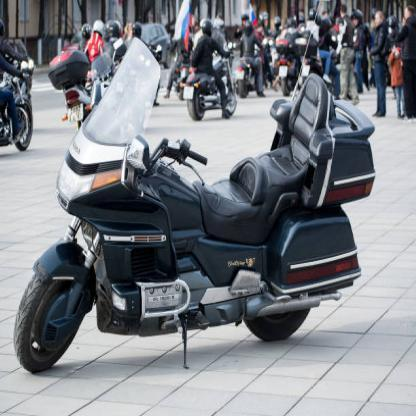Motorcycle: (10, 66, 376, 378)
